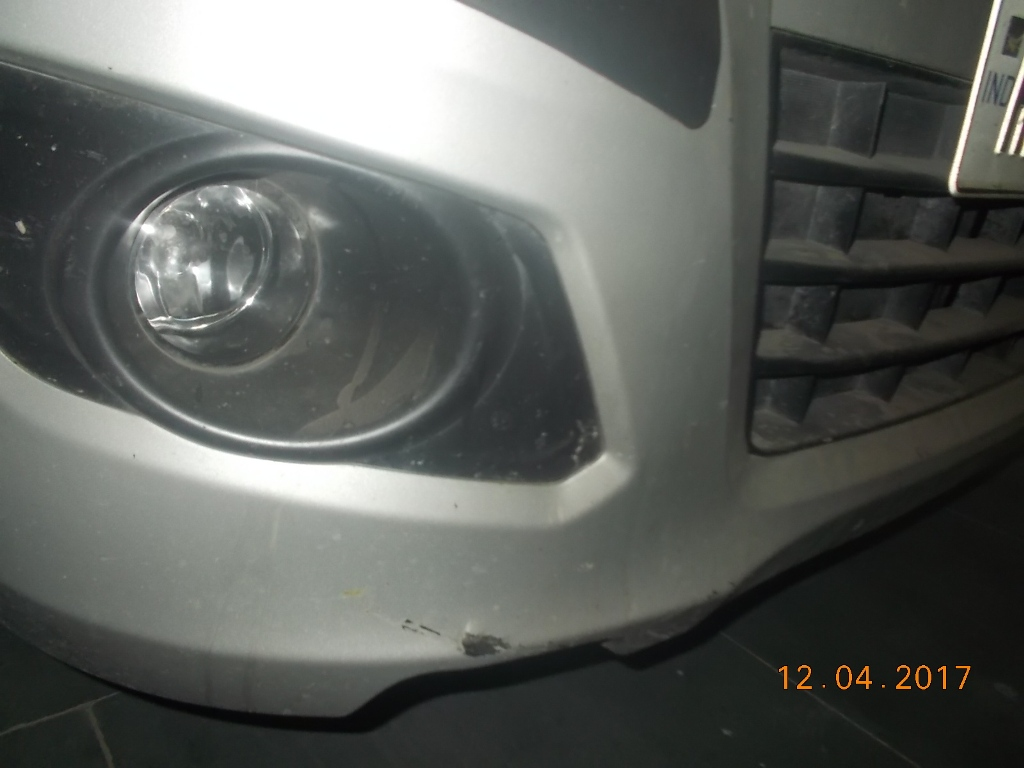Scratch_or_spot: (451, 620, 518, 663), (399, 615, 440, 647)
